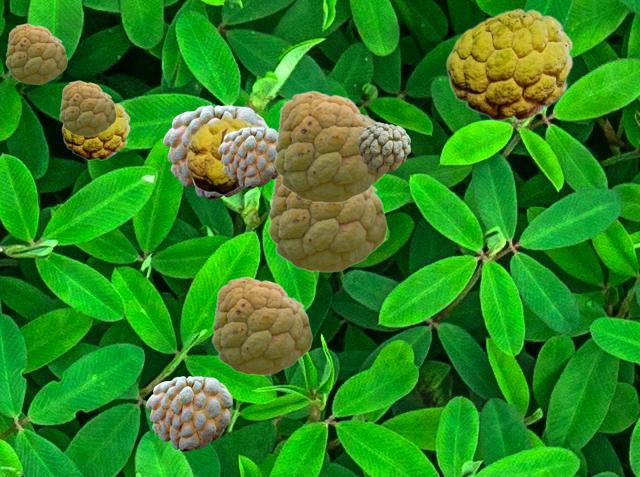atis: (445, 8, 572, 120), (273, 90, 386, 202), (267, 176, 386, 271), (163, 105, 269, 198), (211, 276, 311, 374), (146, 376, 231, 450), (185, 115, 258, 194), (61, 102, 129, 159), (5, 23, 66, 83), (218, 127, 278, 187), (59, 80, 115, 135), (357, 122, 409, 172)
